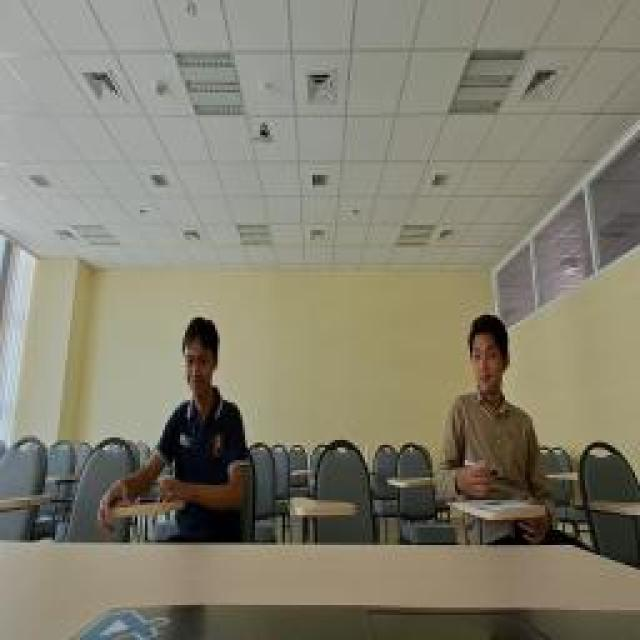study: (425, 310, 555, 502), (145, 315, 253, 507)
